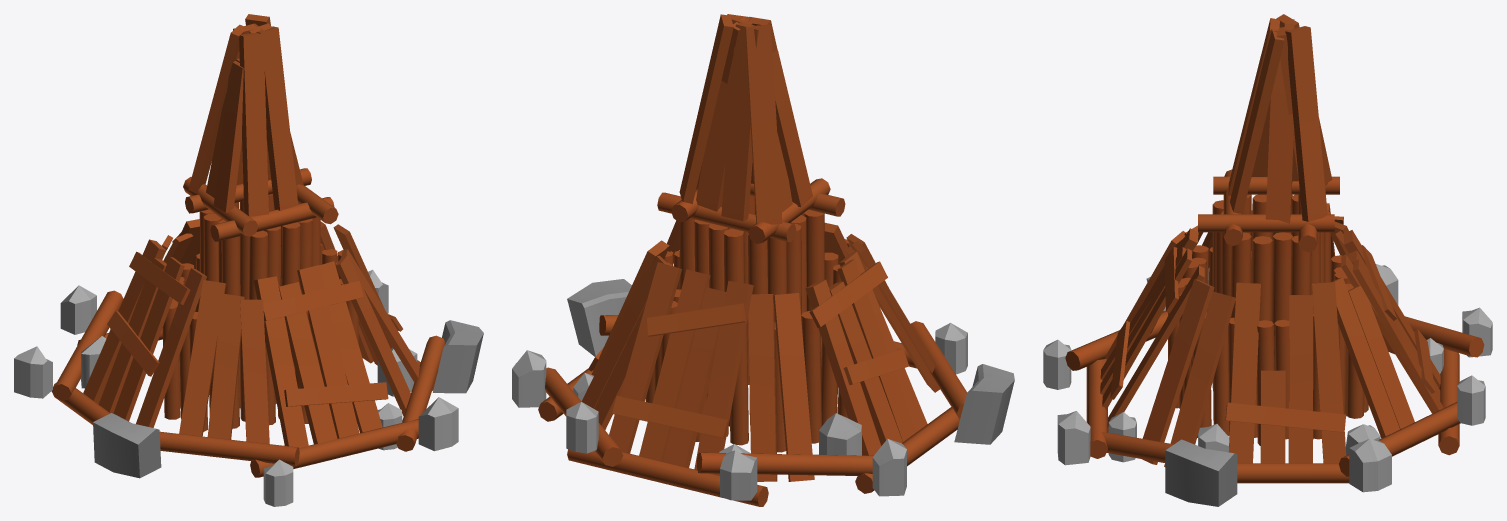
The model's file is FireBon_Lv2.fbx.
3 renders of one model, left to right at view 1: azimuth 30°, elevation 25°; view 2: azimuth 150°, elevation 25°; view 3: azimuth 270°, elevation 25°, orthographic. The views are drawn at different scales.
Visible parts, largest first — view 1: FireTower; view 2: FireTower; view 3: FireTower.
Boxes of the visible parts, x1,y1,x2,y2 form: FireTower: [14, 14, 483, 506]; FireTower: [512, 14, 1014, 506]; FireTower: [1043, 14, 1492, 506].
Bounding box in the file's own units: 3.61 × 3.34 × 3.38.
1 material, 1 textured.
